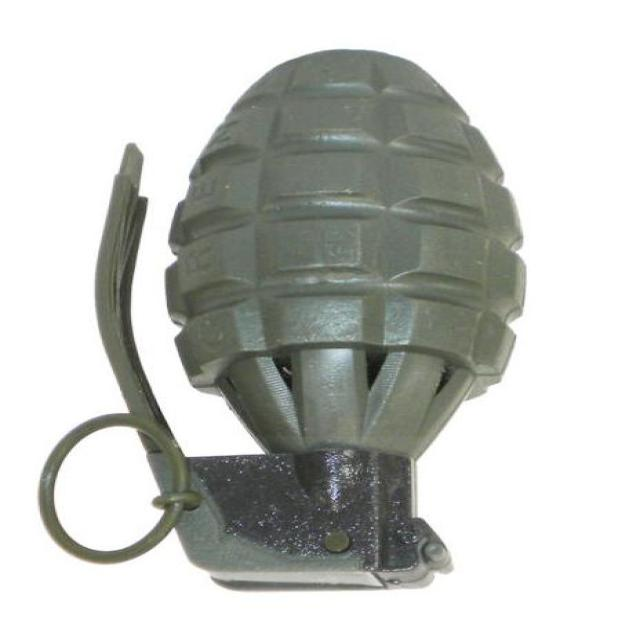grenade: (38, 50, 528, 595)
